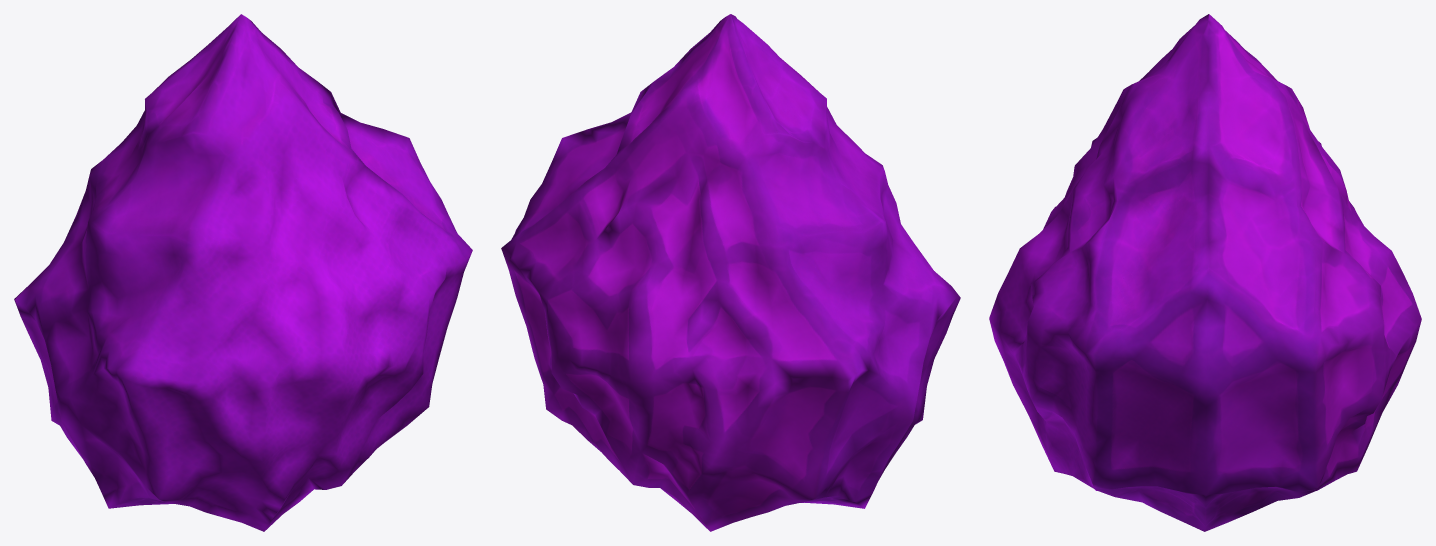
File: PowerCrystalPickup.fbx
3 renders of one model, left to right at view 1: azimuth 30°, elevation 25°; view 2: azimuth 150°, elevation 25°; view 3: azimuth 270°, elevation 25°, orthographic. The views are drawn at different scales.
Visible parts, largest first — view 1: Mesh_0; view 2: Mesh_0; view 3: Mesh_0.
Part boxes in pixels (x1,y1,x2,y2): Mesh_0: (14, 14, 472, 531); Mesh_0: (501, 14, 960, 531); Mesh_0: (989, 14, 1421, 531).
Size of the model in its own units: 81.75 by 100 by 78.22.
Materials: 1 (1 with a texture image).
